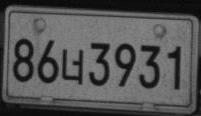1: (164, 45, 187, 90)
3: (138, 44, 161, 89), (88, 41, 110, 87)
6: (36, 40, 59, 83)
8: (12, 37, 34, 82)
9: (114, 42, 136, 87)
너: (60, 48, 84, 85)
